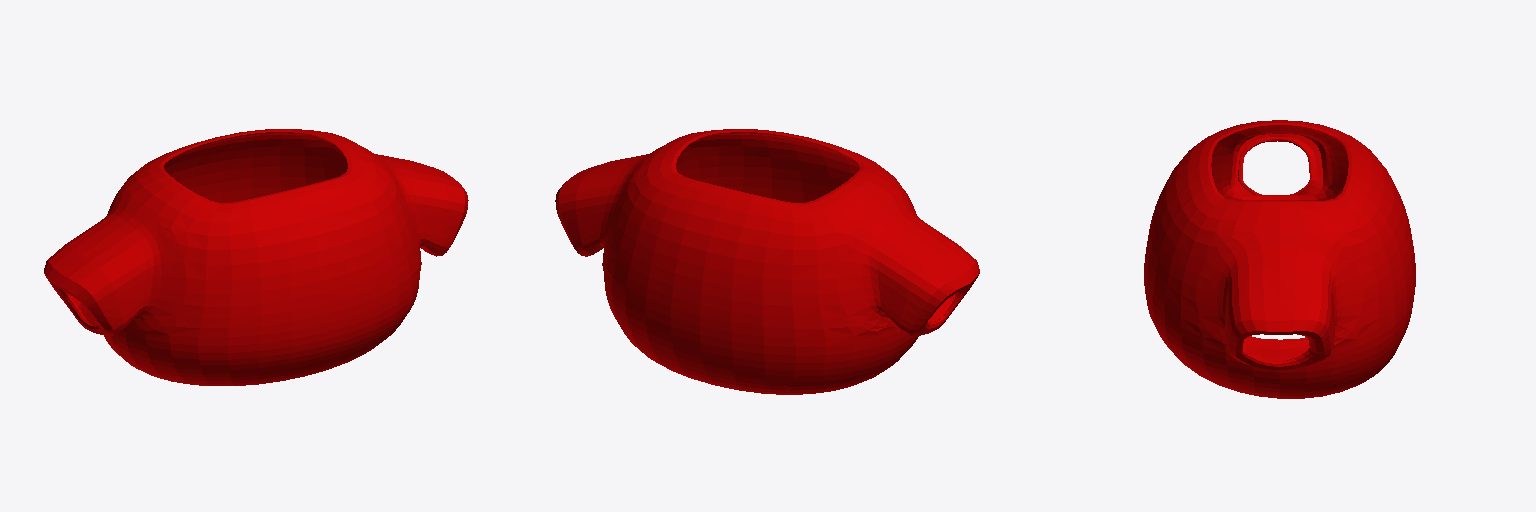
File: Camiseta.obj
The picture shows the model from 3 angles: view 1: azimuth 30°, elevation 25°; view 2: azimuth 150°, elevation 25°; view 3: azimuth 270°, elevation 25°; orthographic projection.
Parts seen in each view (by area): view 1: Camiseta; view 2: Camiseta; view 3: Camiseta.
Boxes of the visible parts, x1=… form: Camiseta: x1=44, y1=129, x2=468, y2=385; Camiseta: x1=555, y1=129, x2=979, y2=394; Camiseta: x1=1144, y1=120, x2=1415, y2=398.
Size of the model in its own units: 32.65 by 14.39 by 18.97.